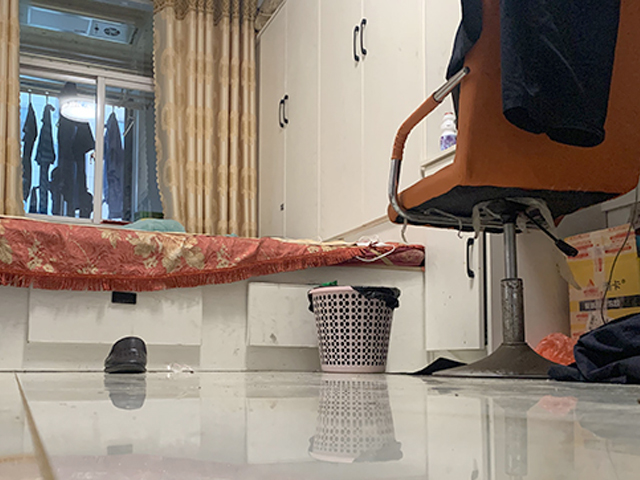bed: (1, 215, 427, 372)
cabinet: (257, 1, 640, 368)
curtain: (151, 3, 258, 235)
stool: (388, 1, 640, 379)
trashcan: (307, 284, 402, 373)
